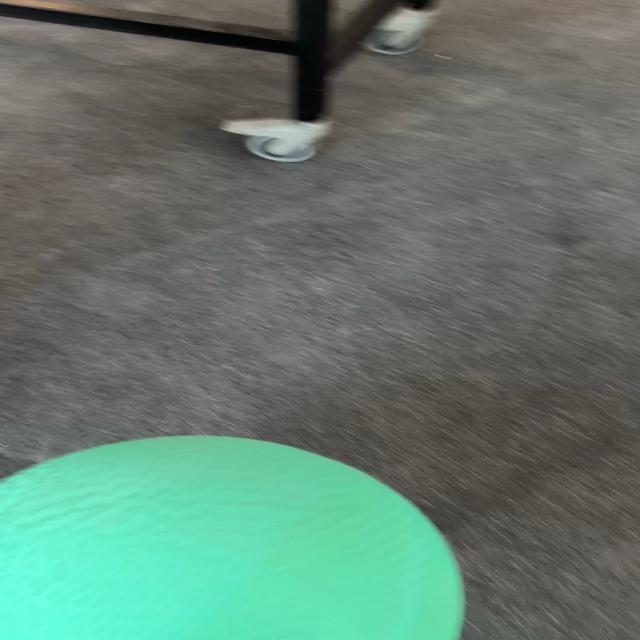Algae: (1, 434, 467, 638)
